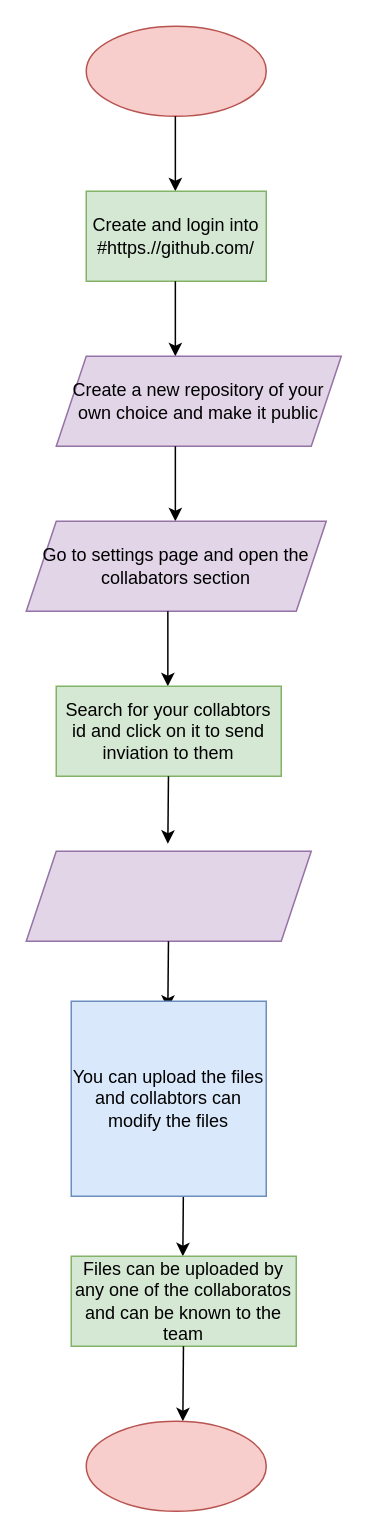
Image size: 368x1538. Some labels were removed from this diagram. The centre of each missing label's shape, as x and y in pixels:
End: [175,1465]
Start: [175,70]
The collabtors must accept the inviation: [168,895]
